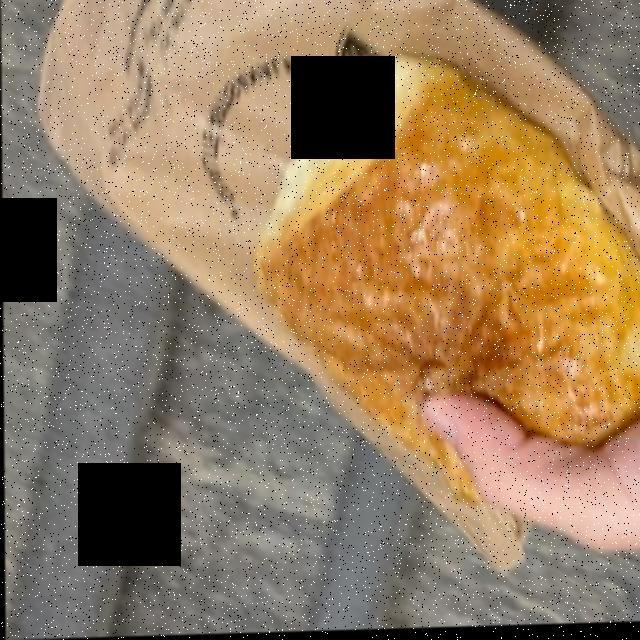bread: (261, 63, 628, 484)
